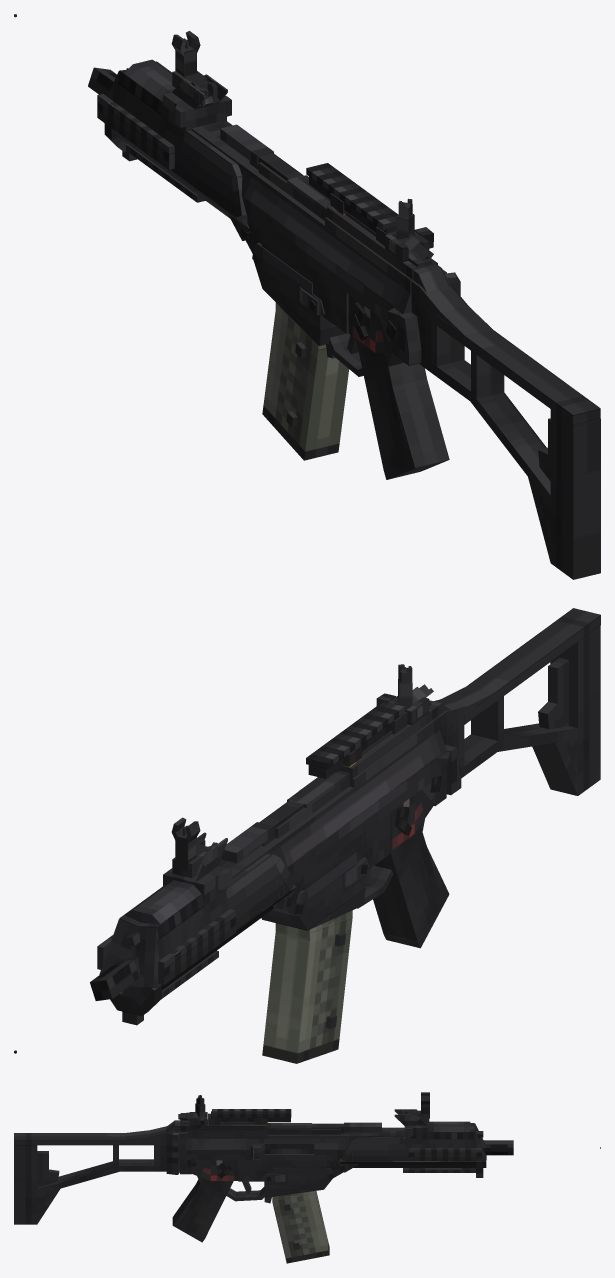
The picture shows the model from 3 angles, top to bottom: view 1: azimuth 30°, elevation 25°; view 2: azimuth 150°, elevation 25°; view 3: azimuth 270°, elevation 25°; orthographic projection. The views are drawn at different scales.
Parts seen in each view (by area): view 1: gun, magazine, bolt, bolt2, frontsight; view 2: gun, magazine, bolt, bolt2, frontsight, rearsight; view 3: gun, magazine, bolt, action, bolt2.
Boxes of the visible parts, x1=… form: gun: x1=88, y1=59, x2=600, y2=579; magazine: x1=262, y1=302, x2=349, y2=460; bolt: x1=249, y1=151, x2=330, y2=220; bolt2: x1=220, y1=124, x2=273, y2=165; frontsight: x1=171, y1=31, x2=200, y2=76; gun: x1=90, y1=608, x2=600, y2=1025; magazine: x1=262, y1=910, x2=352, y2=1063; bolt: x1=255, y1=770, x2=349, y2=846; bolt2: x1=221, y1=822, x2=273, y2=863; frontsight: x1=171, y1=817, x2=200, y2=871; rearsight: x1=398, y1=664, x2=412, y2=711; gun: x1=14, y1=1109, x2=513, y2=1242; magazine: x1=272, y1=1191, x2=329, y2=1263; bolt: x1=267, y1=1123, x2=352, y2=1134; action: x1=264, y1=1144, x2=314, y2=1153; bolt2: x1=344, y1=1122, x2=381, y2=1132.
Bounding box in the file's own units: 43.92 × 195 × 629.
